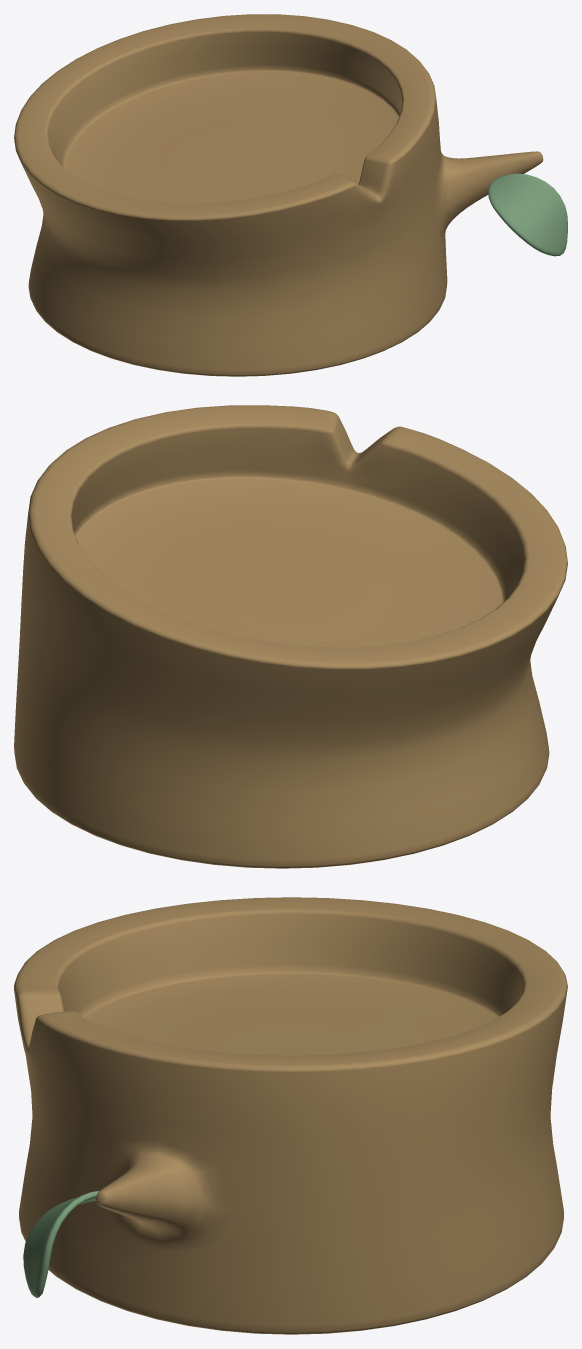
Rendered from SM_20002TocoArvoreM.fbx.
3 renders of one model, top to bottom at view 1: azimuth 30°, elevation 25°; view 2: azimuth 150°, elevation 25°; view 3: azimuth 270°, elevation 25°, orthographic. The views are drawn at different scales.
Parts seen in each view (by area): view 1: SM_20002TocoArvoreM_geo_2, SM_20002TocoArvoreM_geo_1; view 2: SM_20002TocoArvoreM_geo_2; view 3: SM_20002TocoArvoreM_geo_2, SM_20002TocoArvoreM_geo_1.
Part boxes in pixels (left/top/right/bottom): SM_20002TocoArvoreM_geo_2: left=14, top=14, right=543, bottom=376; SM_20002TocoArvoreM_geo_1: left=488, top=173, right=567, bottom=256; SM_20002TocoArvoreM_geo_2: left=14, top=405, right=567, bottom=868; SM_20002TocoArvoreM_geo_2: left=14, top=897, right=567, bottom=1334; SM_20002TocoArvoreM_geo_1: left=23, top=1190, right=99, bottom=1297.
Size of the model in its own units: 78.83 by 35.26 by 67.47.
